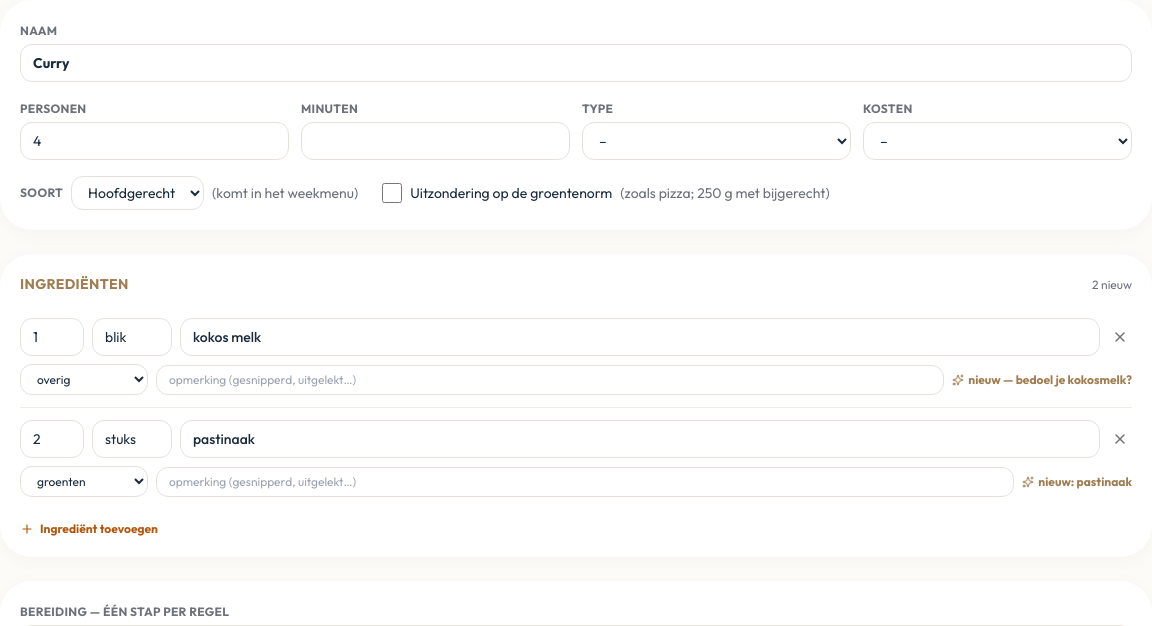
Test case: RecipeEditor ingredient previews › hides a preview as soon as its row changes, until a fresh one arrives
Replace the text in the 1st field named "ingrediënt" with "kokosnoot" at (640, 337), box left=180, top=318, right=1100, bottom=356
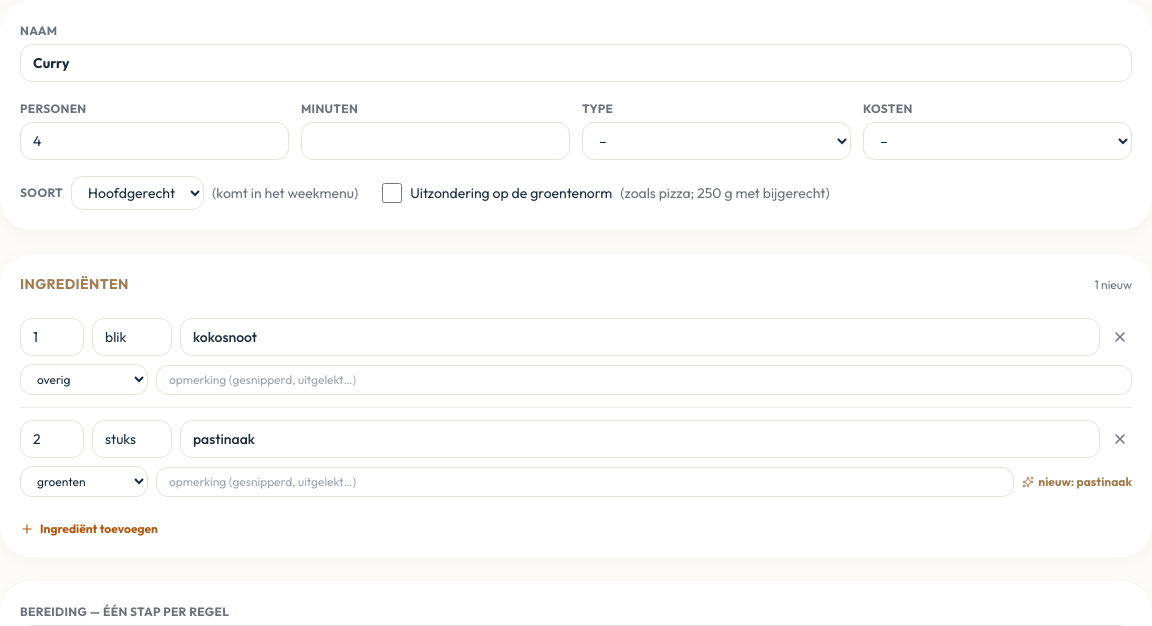
Now the button "bedoel je kokosmelk" is gone
